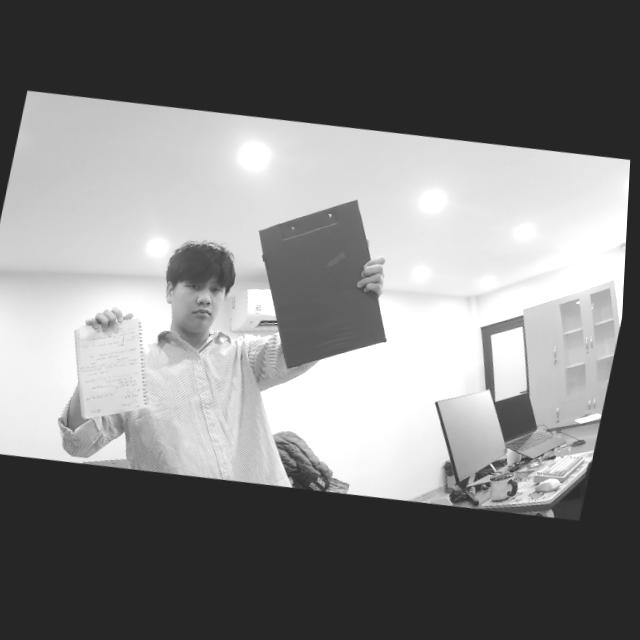document: (76, 318, 148, 420)
face: (153, 239, 237, 338)
